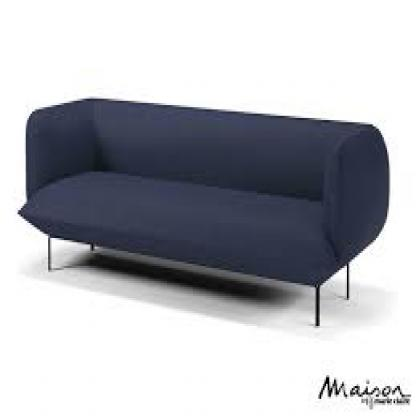sofa: (18, 90, 394, 335)
